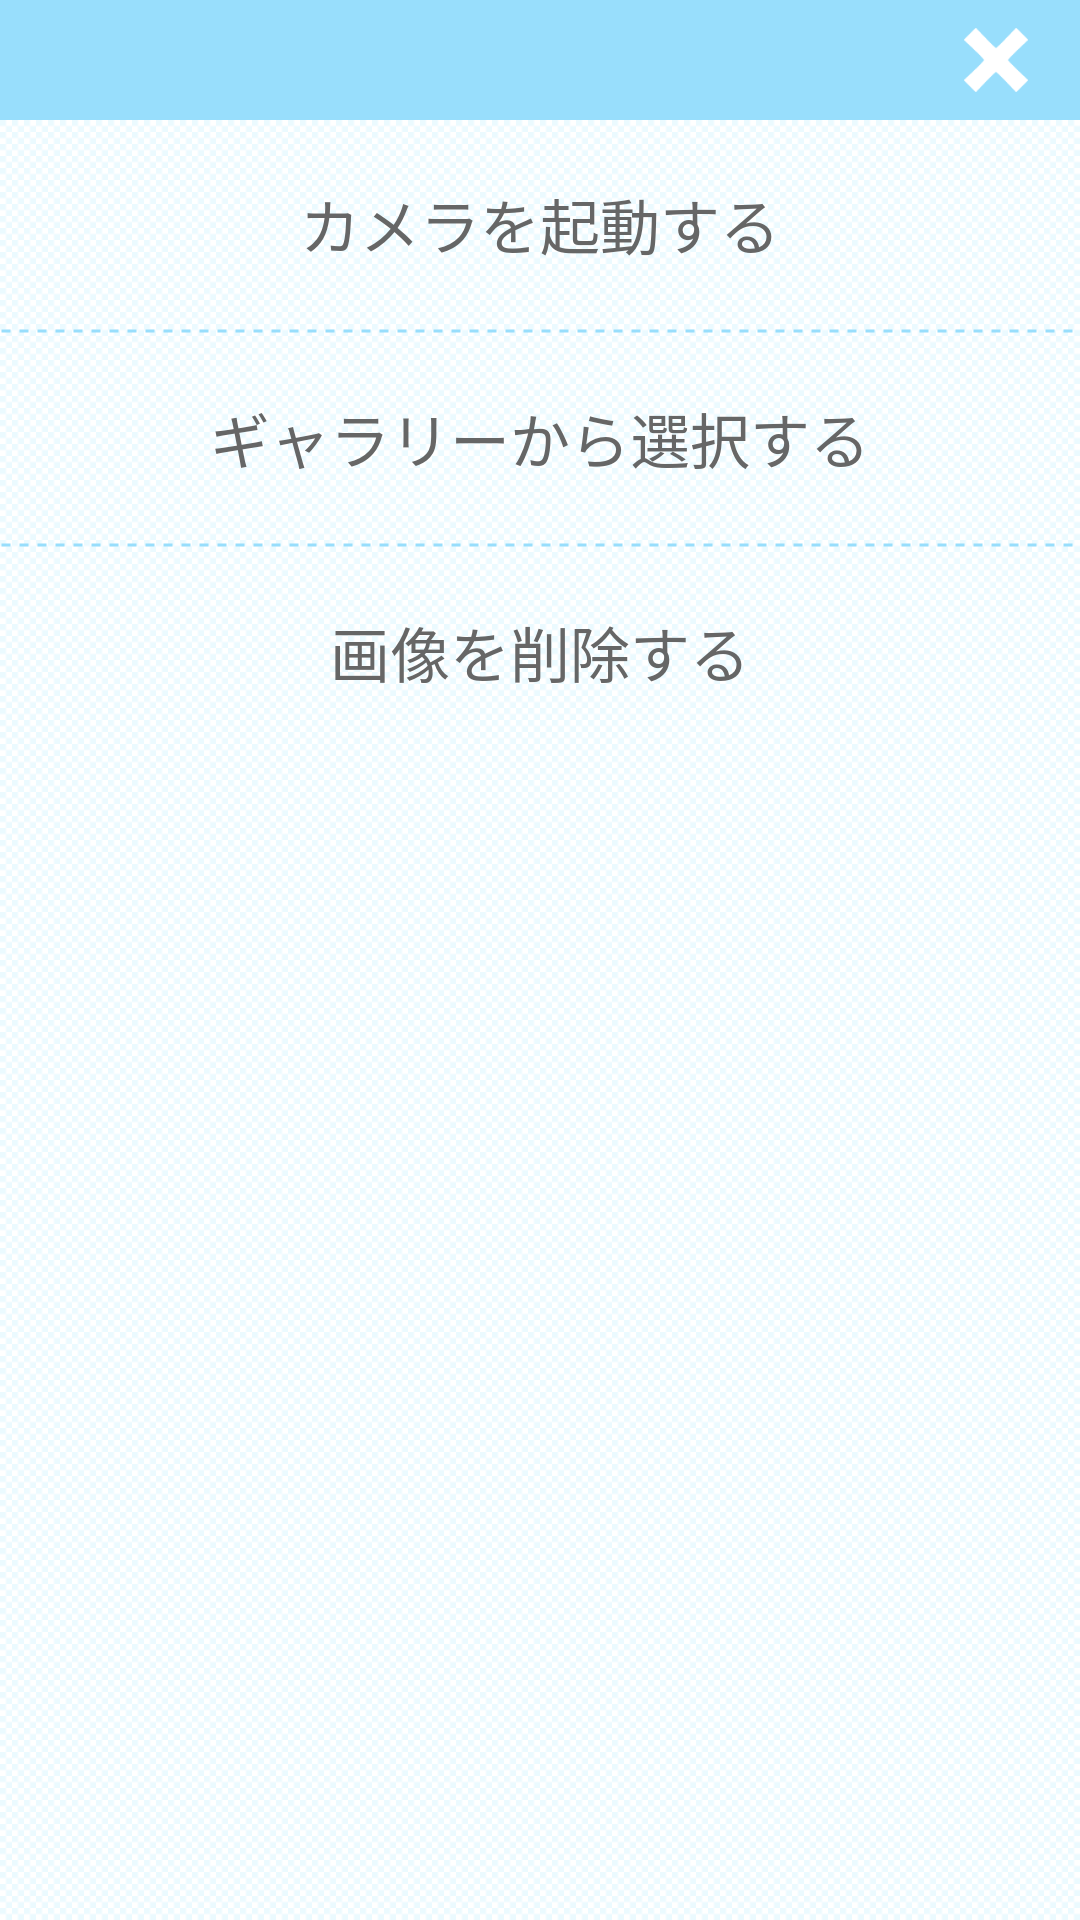

Screen size 1080×1920. Icon name, then its box in pixels as [x1, y1, x2, y2]:
close: [964, 28, 1028, 92]
